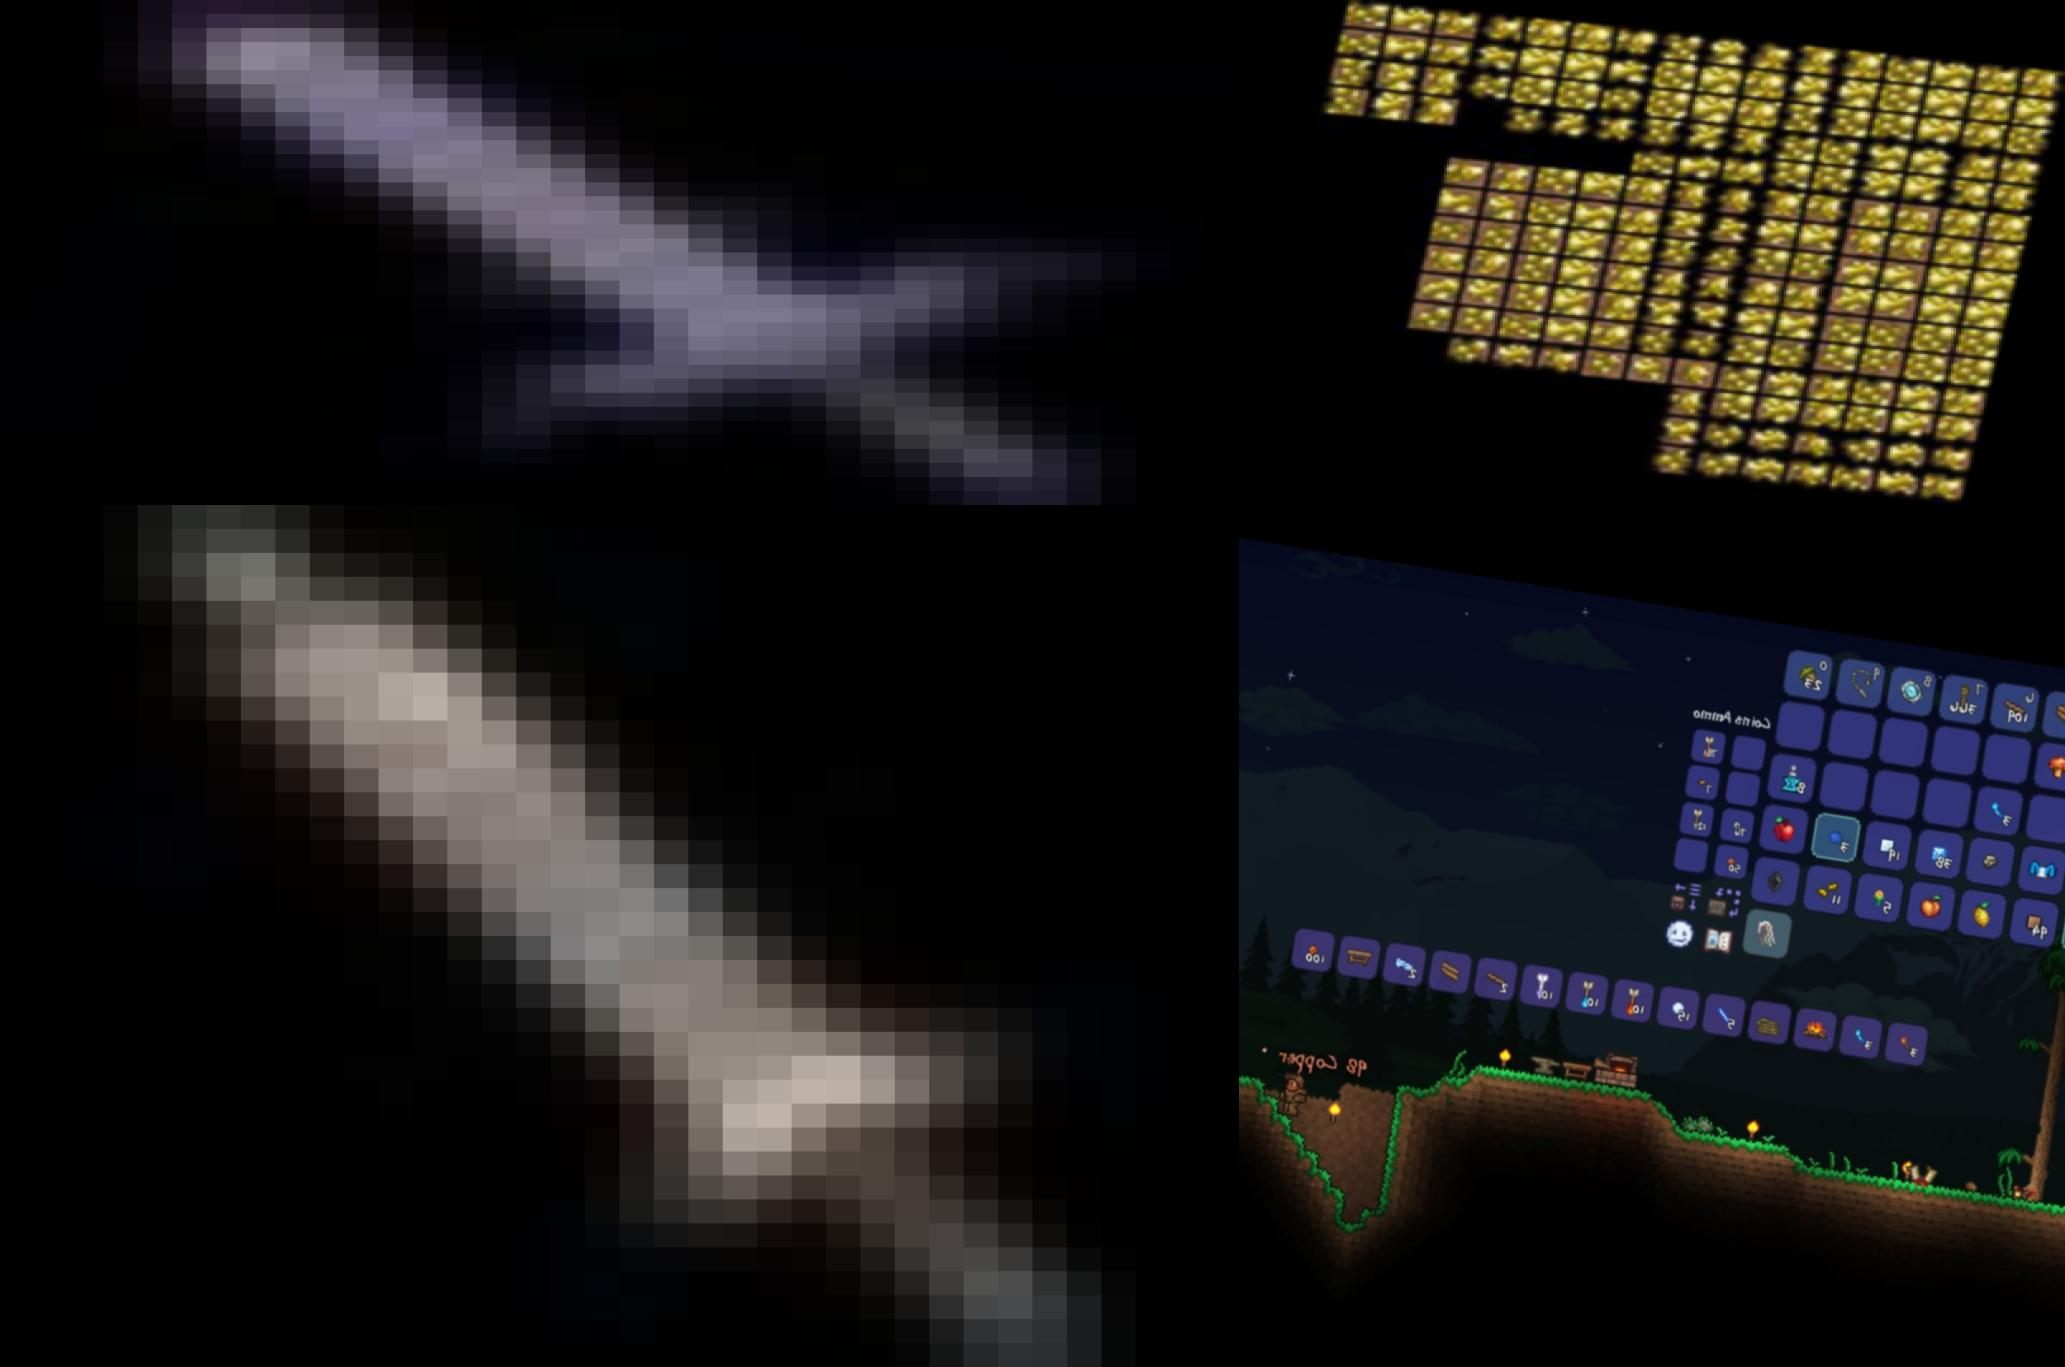gold: (2015, 67, 2065, 99)
recallP: (1777, 760, 1809, 799)
sword: (0, 505, 1238, 1367), (0, 0, 1238, 505)
